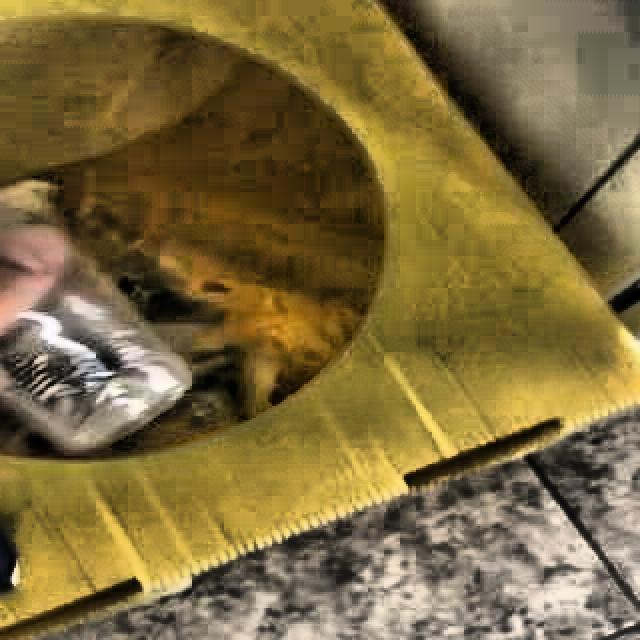plastic: (0, 254, 192, 455), (0, 180, 64, 239)
